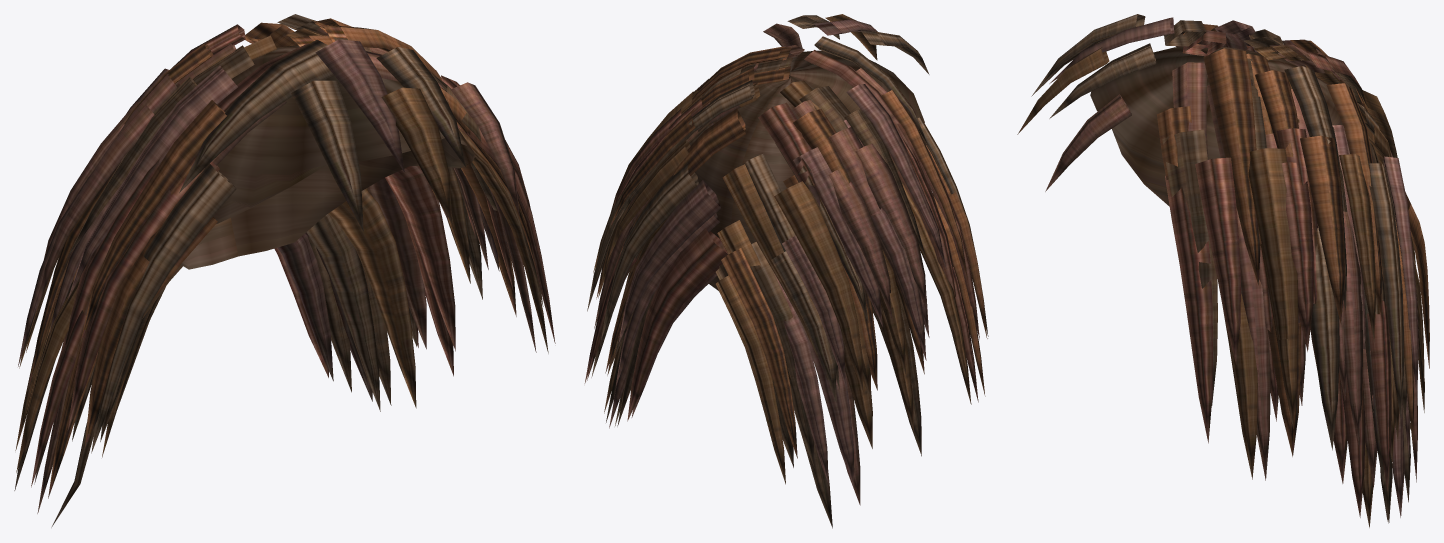
File: franja.glb
3 renders of one model, left to right at view 1: azimuth 30°, elevation 25°; view 2: azimuth 150°, elevation 25°; view 3: azimuth 270°, elevation 25°, orthographic. The views are drawn at different scales.
Parts seen in each view (by area): view 1: cabelo_franja; view 2: cabelo_franja; view 3: cabelo_franja.
Boxes of the visible parts, <box> form: cabelo_franja: <box>14,14,555,527</box>; cabelo_franja: <box>584,14,988,528</box>; cabelo_franja: <box>1017,14,1429,527</box>.
Bounding box in the file's own units: 0.2962 × 0.3056 × 0.2395.
1 material, 1 textured.
